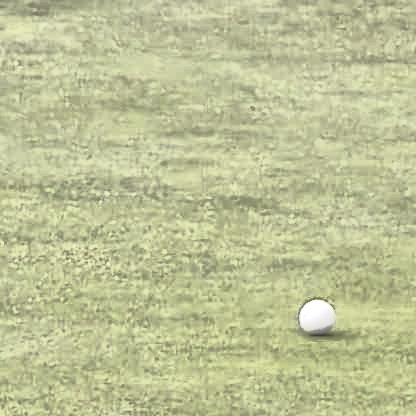golfball: (296, 295, 332, 332)
